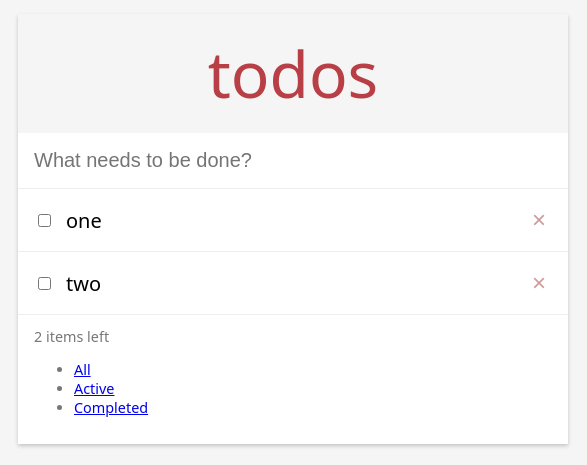
delete button removes item and updates count
Expected: the text "2 items left" is shown, [34,327,109,346]
What coordinates should you click on to do the following:
click the button named "Delete"
I would click on:
 (539, 220)
Its box is [526,205,552,235].
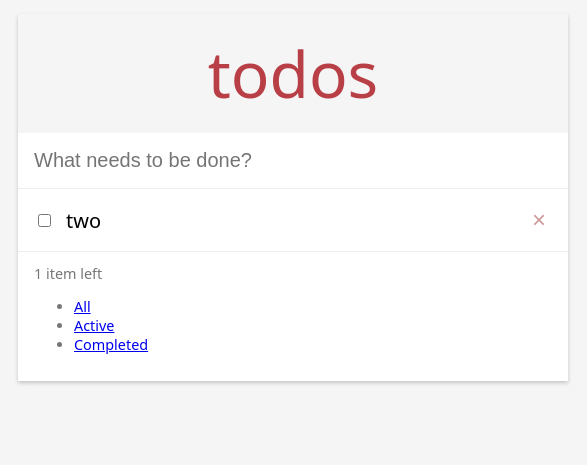
Expected: the text "two" is shown, [66,206,101,234]
Expected: the text "1 item left" is shown, [34,264,102,283]
